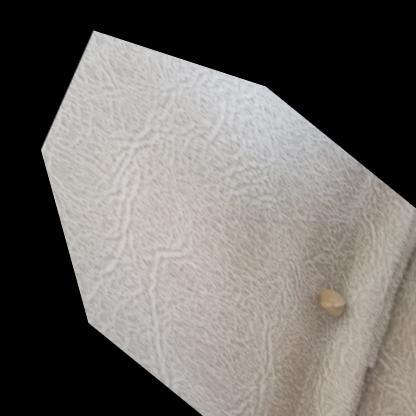pistachio: (317, 285, 348, 320)
